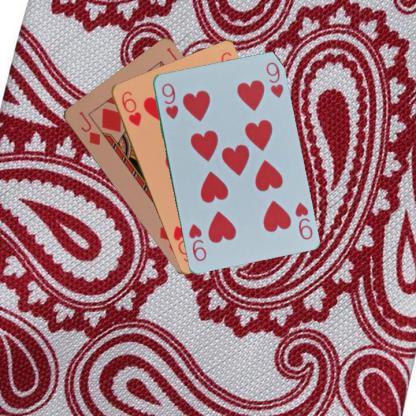6h: (118, 88, 143, 128)
9h: (292, 199, 314, 241), (158, 80, 180, 121)
Jd: (76, 108, 102, 147)
